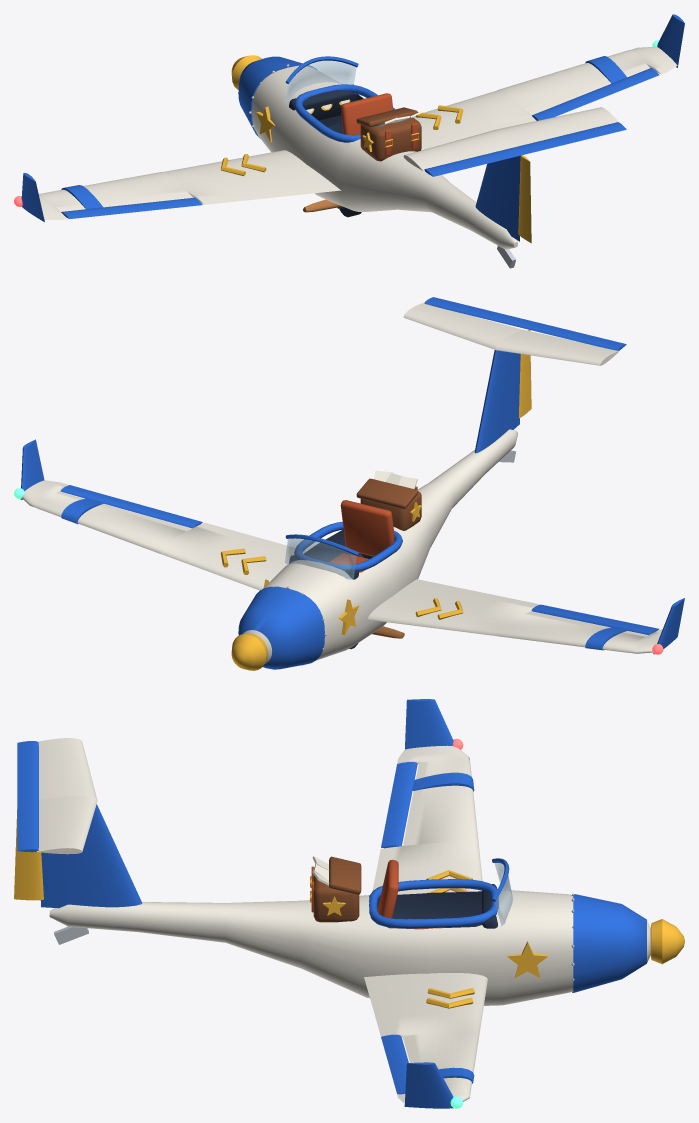
The model's file is sternsegler.glb.
The picture shows the model from 3 angles, top to bottom: view 1: azimuth 30°, elevation 25°; view 2: azimuth 150°, elevation 25°; view 3: azimuth 270°, elevation 25°; orthographic projection. The views are drawn at different scales.
Parts seen in each view (by area): view 1: sternsegler_lod0, Elevator, AileronR, AileronL, Rudder; view 2: sternsegler_lod0, Elevator, AileronR, AileronL, Rudder; view 3: sternsegler_lod0, Elevator, AileronL, Rudder, AileronR.
Part boxes in pixels (bbox=[...]): sternsegler_lod0: bbox=[14, 14, 684, 268]; Elevator: bbox=[424, 122, 626, 176]; AileronR: bbox=[532, 68, 659, 120]; AileronL: bbox=[61, 197, 202, 218]; Rudder: bbox=[518, 155, 531, 243]; sternsegler_lod0: bbox=[14, 303, 684, 670]; Elevator: bbox=[424, 297, 626, 350]; AileronR: bbox=[60, 485, 202, 528]; AileronL: bbox=[531, 604, 658, 634]; Rudder: bbox=[519, 330, 531, 418]; sternsegler_lod0: bbox=[36, 699, 684, 1108]; Elevator: bbox=[17, 741, 38, 852]; AileronL: bbox=[381, 762, 417, 848]; Rudder: bbox=[14, 809, 43, 900]; AileronR: bbox=[381, 1034, 408, 1094].
Size of what is drawn, in the model's own units: 7.97 by 2.3 by 6.18.
